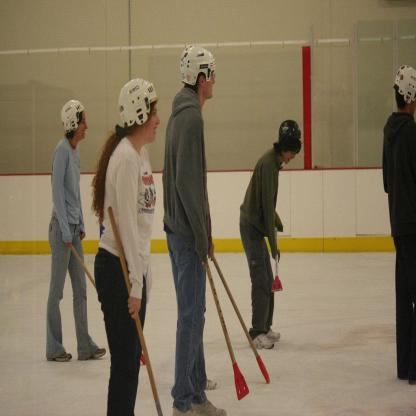Helmet: (118, 77, 159, 132), (179, 43, 217, 87), (60, 98, 84, 136), (394, 65, 416, 106), (276, 118, 303, 144)
